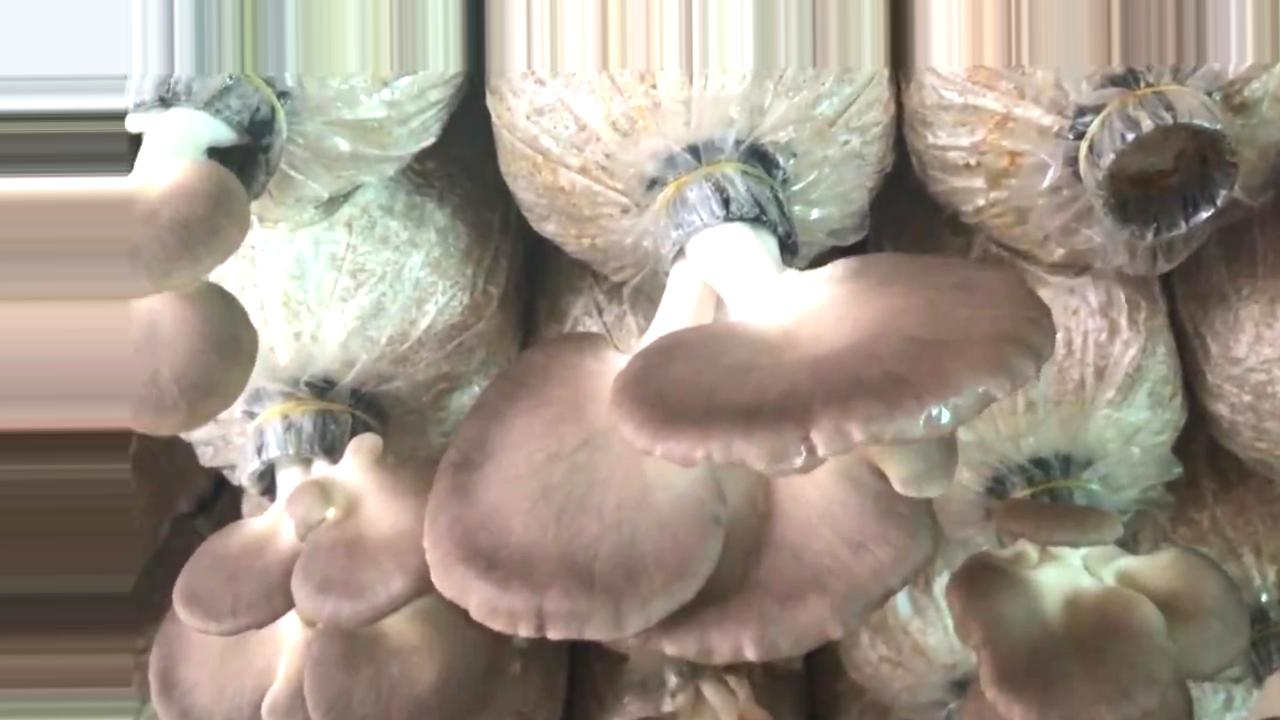nam: (423, 158, 1055, 662), (153, 402, 566, 720), (1, 68, 306, 433), (948, 477, 1244, 719)
